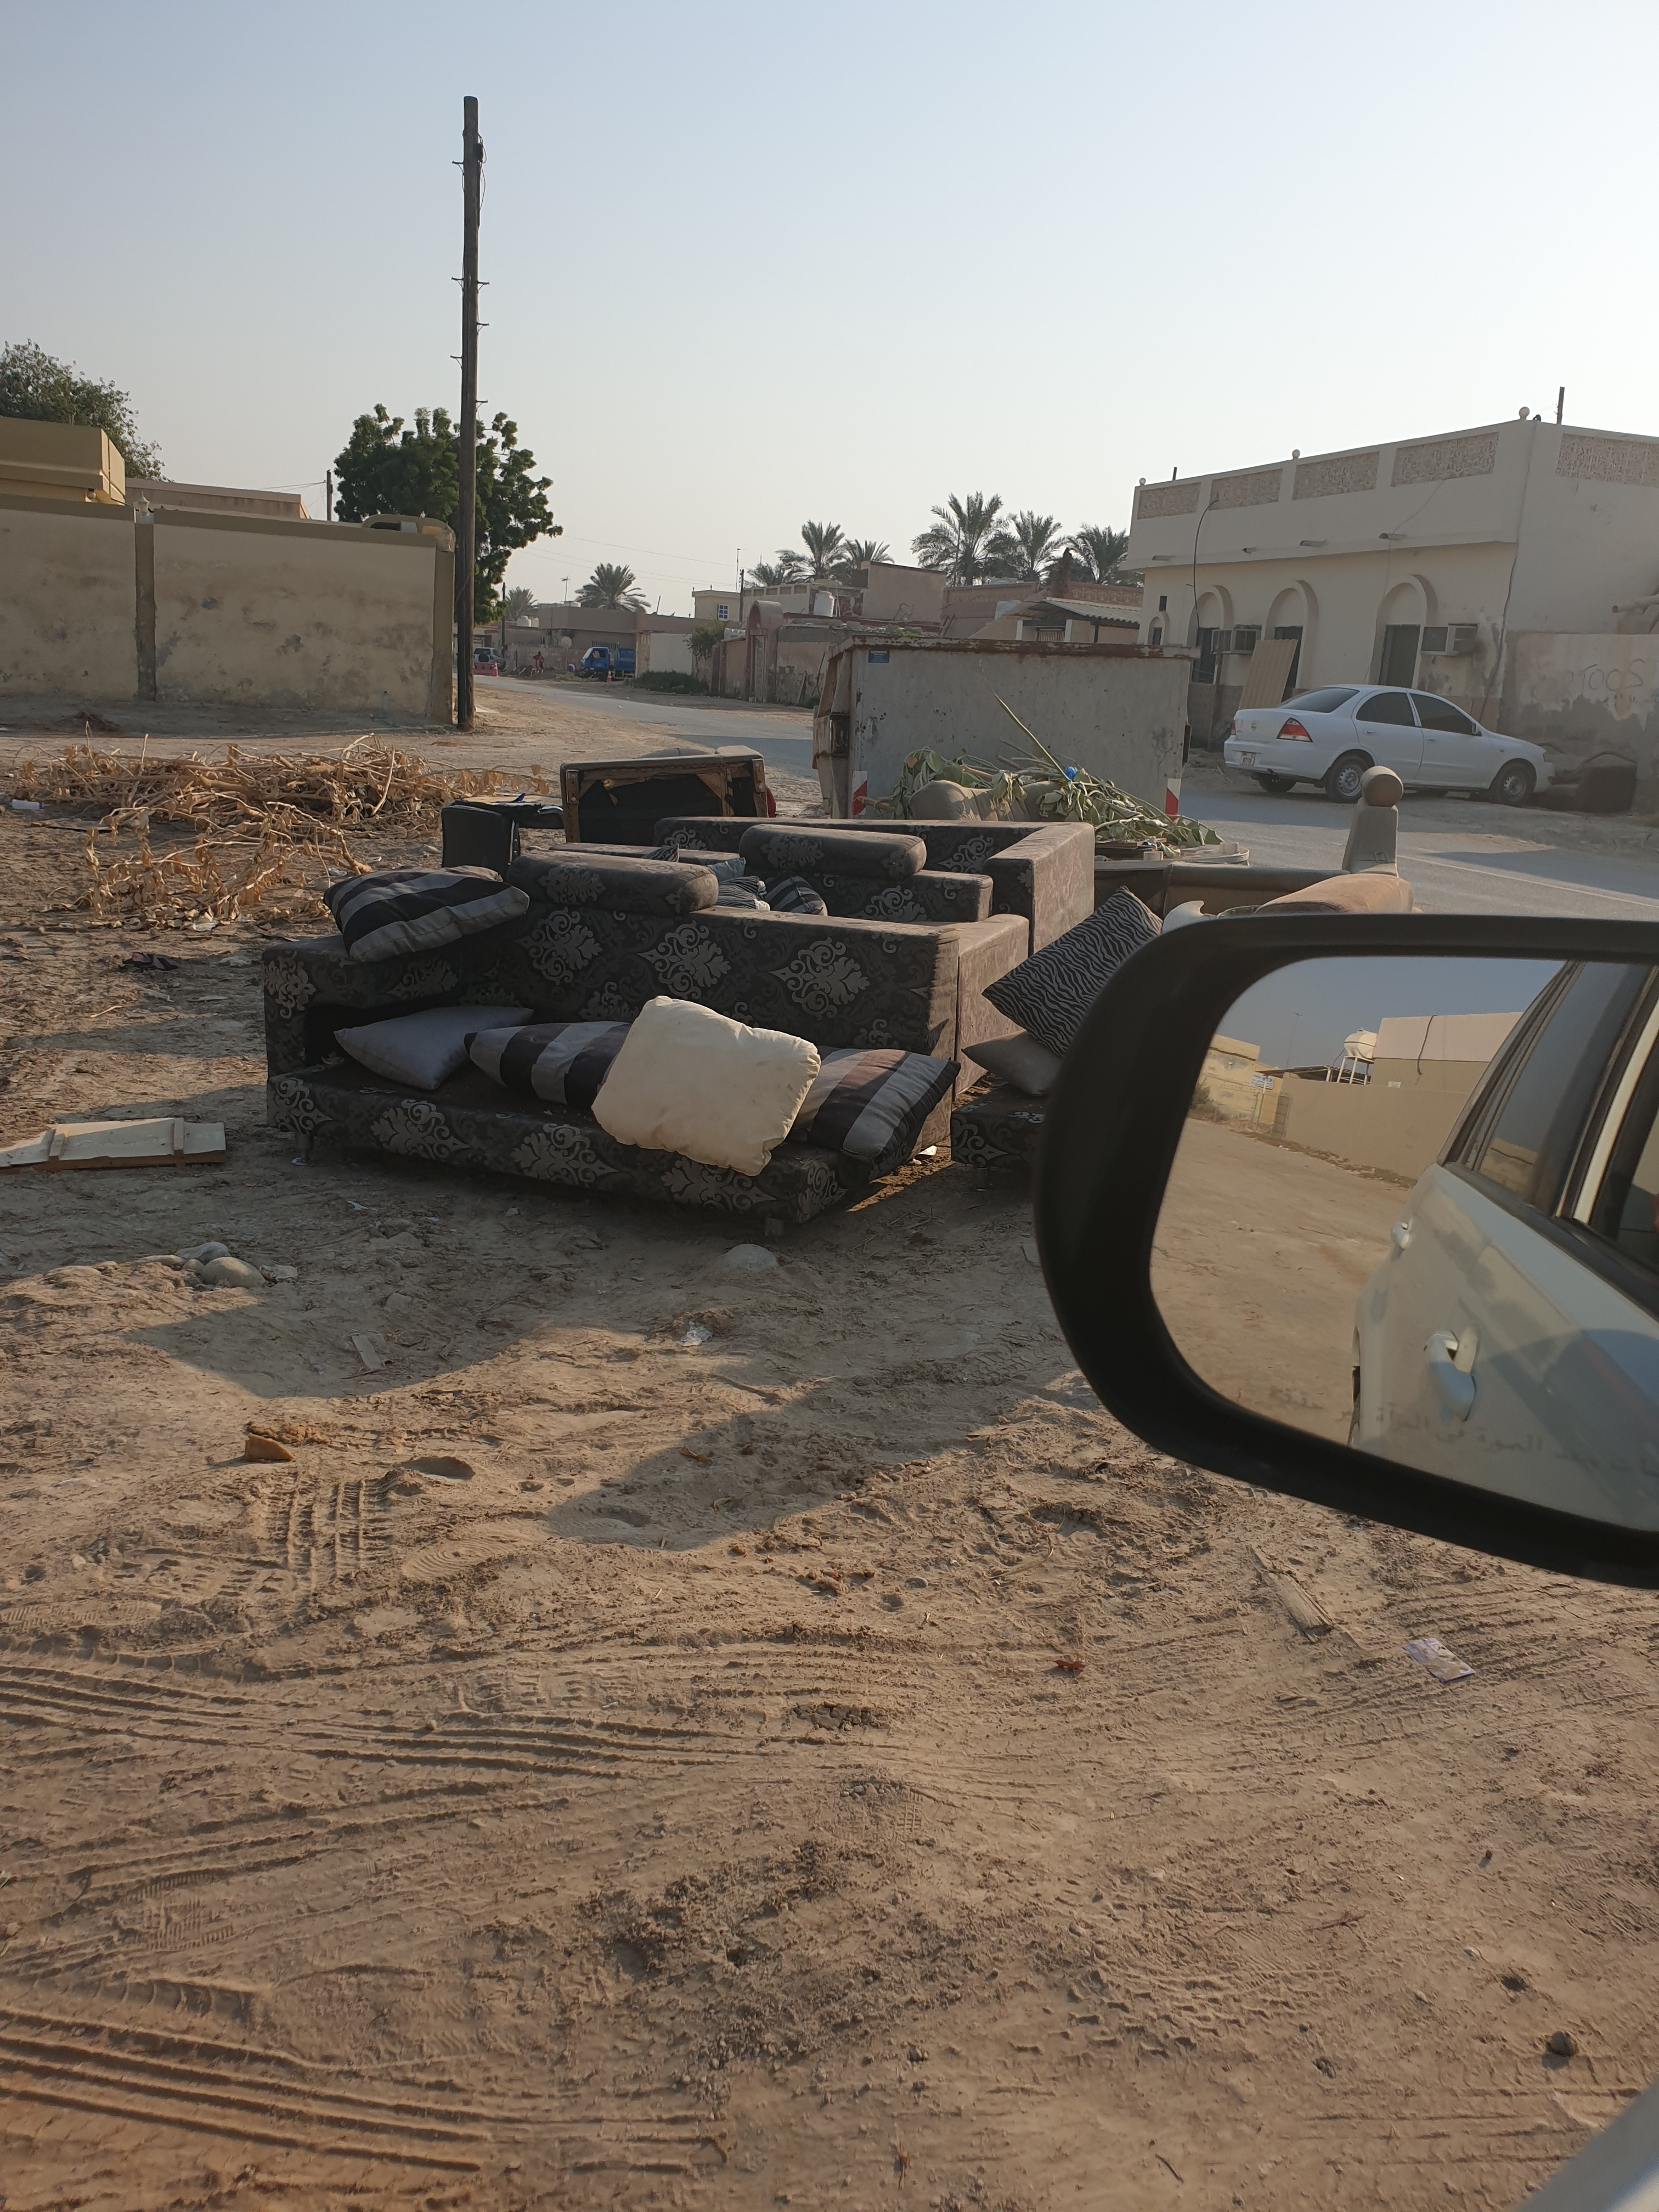fallen_trees: (134, 702, 559, 885), (66, 813, 274, 1089)
uncollected_waste: (274, 822, 988, 1245), (119, 979, 964, 1251), (512, 738, 939, 946)
